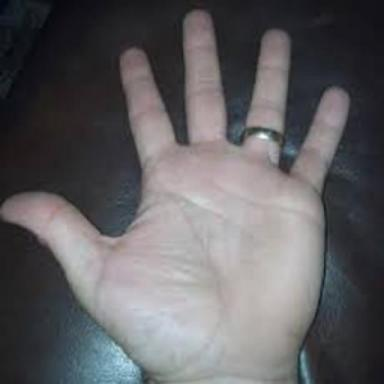normal skin: (0, 11, 349, 384), (247, 29, 291, 134)
